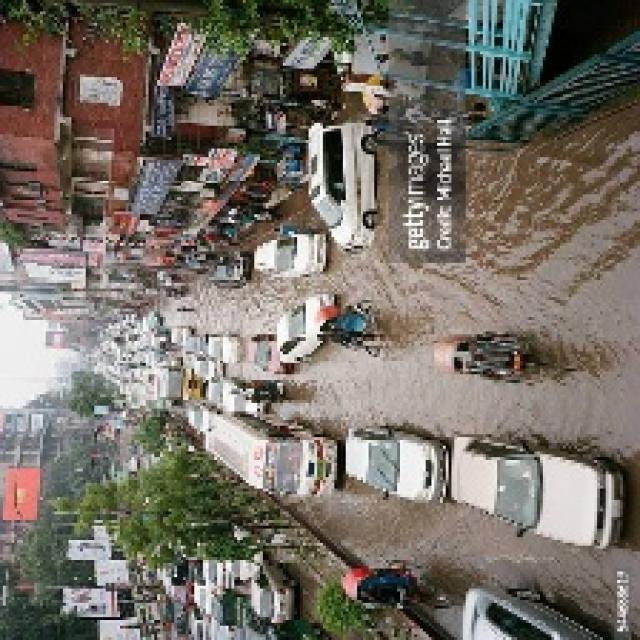car: (441, 432, 616, 532), (310, 116, 380, 253), (454, 580, 600, 640), (339, 428, 453, 493), (276, 289, 337, 362), (252, 231, 332, 277), (245, 559, 302, 613), (205, 250, 251, 292), (243, 335, 290, 371), (203, 373, 236, 406), (208, 335, 241, 364), (191, 579, 220, 611), (187, 403, 216, 434), (194, 355, 221, 383), (206, 558, 233, 585), (182, 333, 206, 359), (169, 325, 192, 345)
rickshaw: (435, 324, 556, 395), (348, 557, 447, 617), (316, 296, 388, 364), (246, 376, 287, 410)
